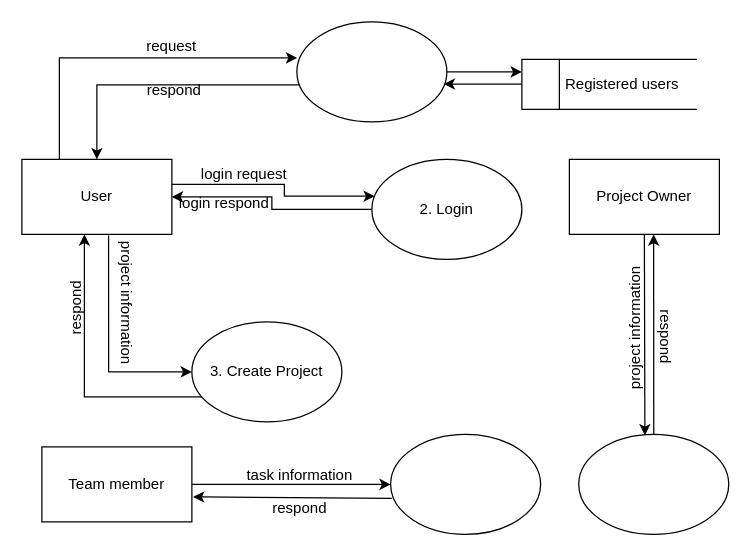
Image size: 751x556. Some labels were removed from this diagram. The shapes that lost their labels are listed below. From the top down, each one's centre as x and y in pixels, then its label:
At (371,71): "1. Register".
At (465,483): "6. Edit Task".
At (653,483): "5. Edit Project".
